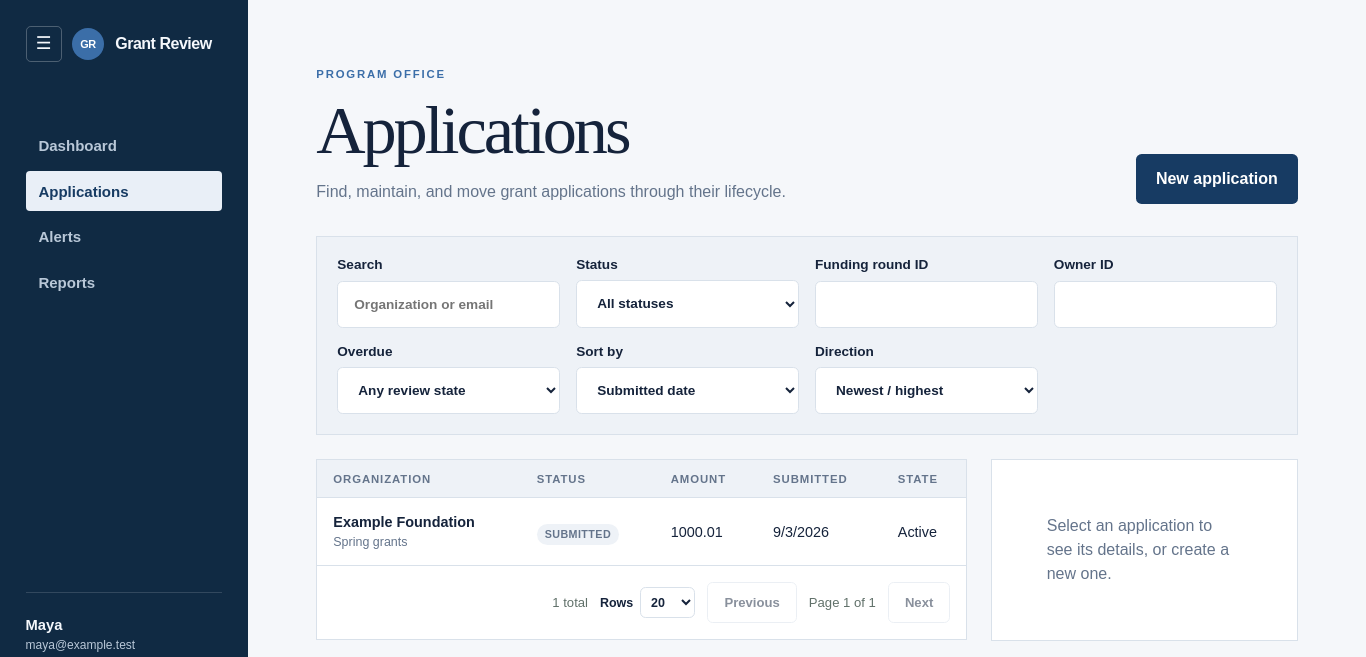
Test: Program Officer application management › refreshes mutations with the current discovery filters
Click the button "Example Foundation" at (404, 522), box [333,514,475,530]
(page scrolled)
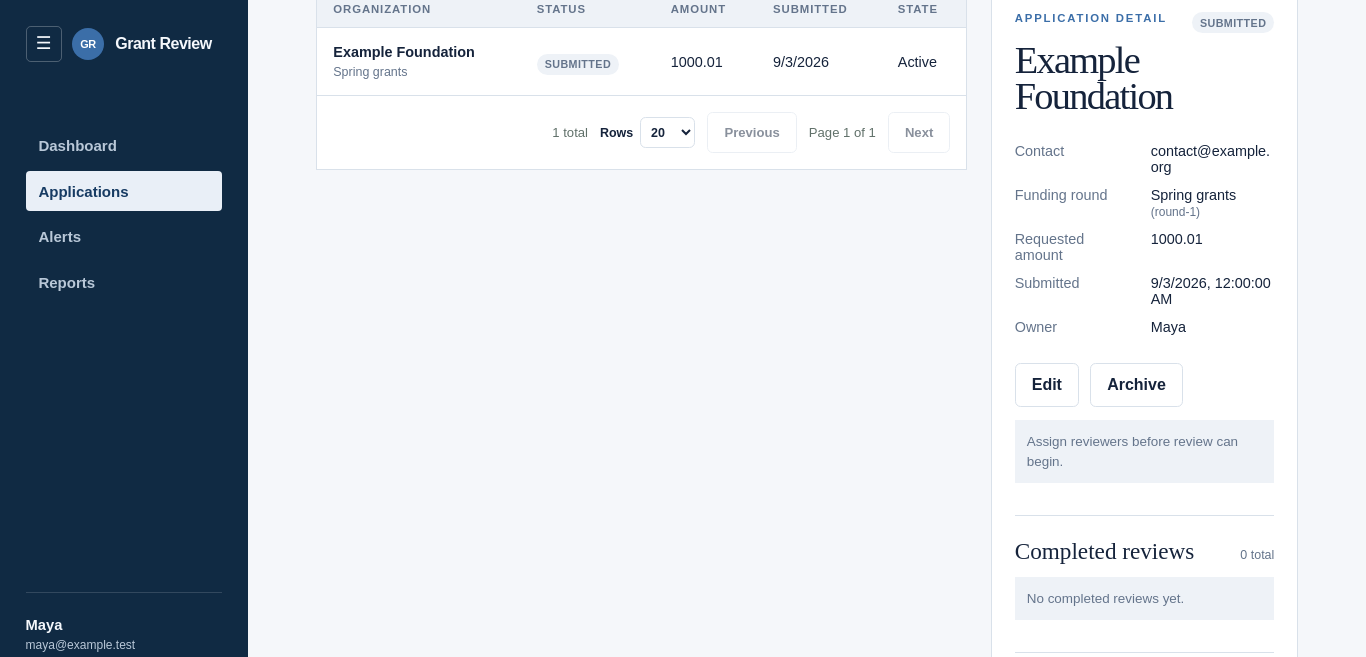
Click the button "Archive" at (1136, 385), box [1090,363,1183,407]
(page scrolled)
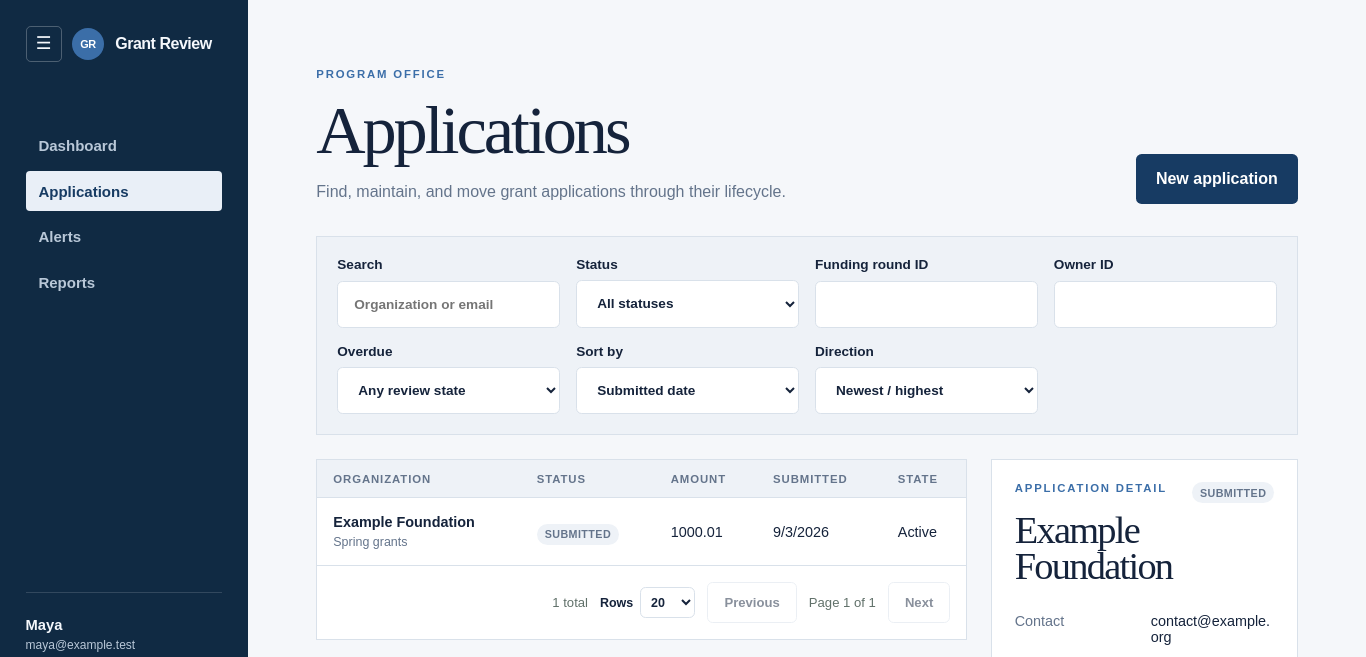
Type "current" into the field named "Search applications" at (449, 304), box [337,281,560,328]
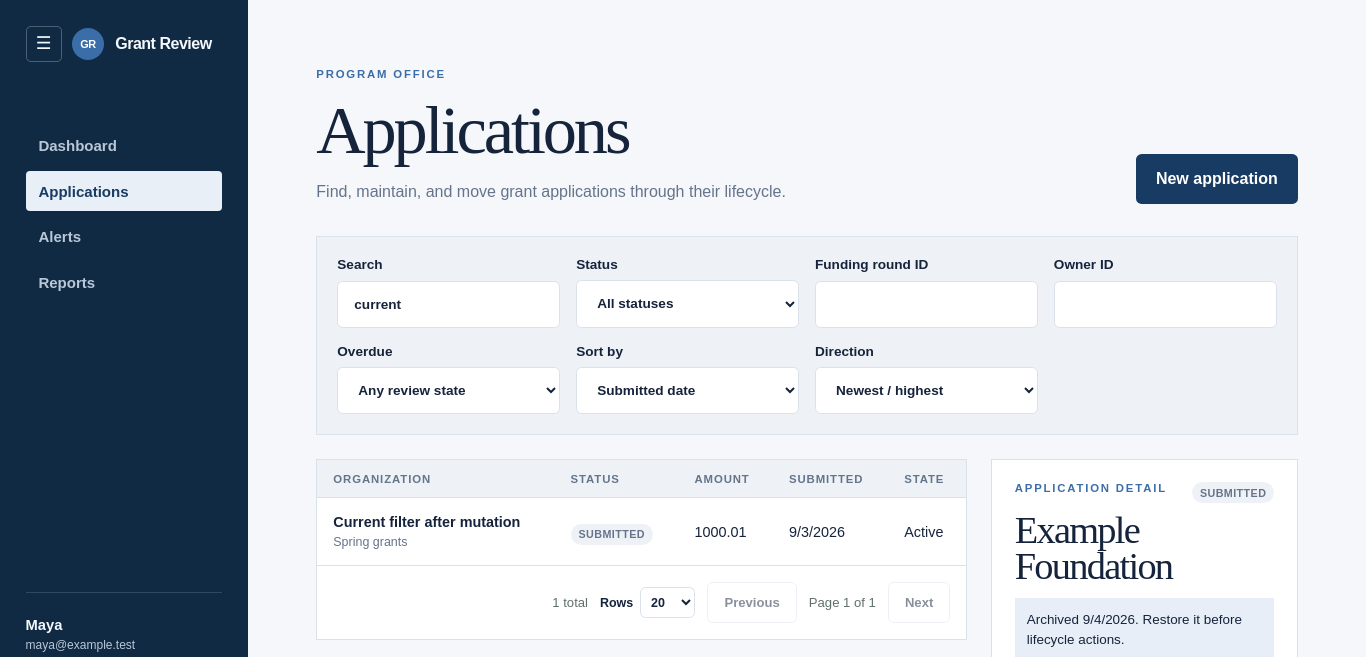
Expected: the button "Current filter after mutation" is shown, [333,514,520,530]
